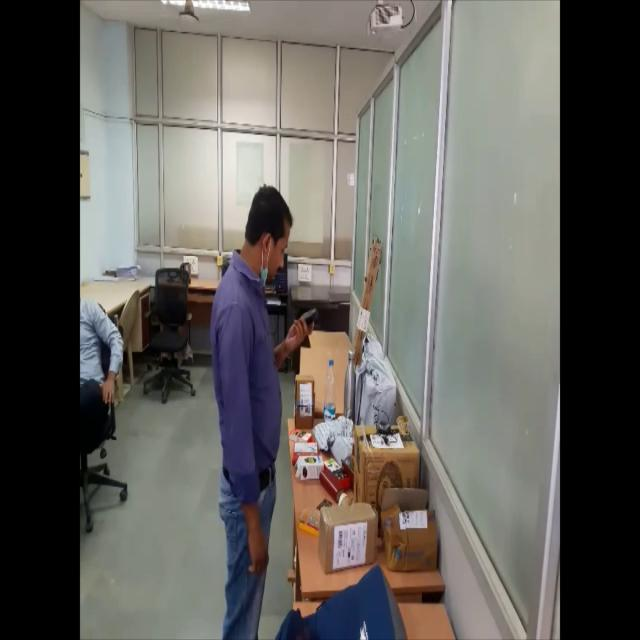normal: (198, 162, 320, 640)
